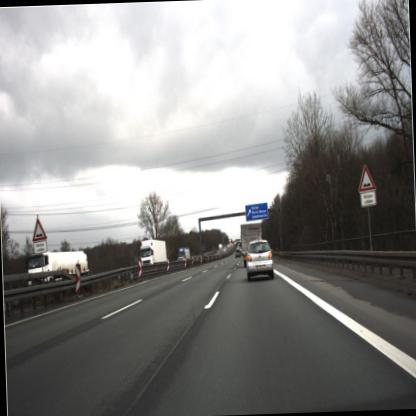danger: (354, 160, 378, 196), (29, 208, 48, 245)
